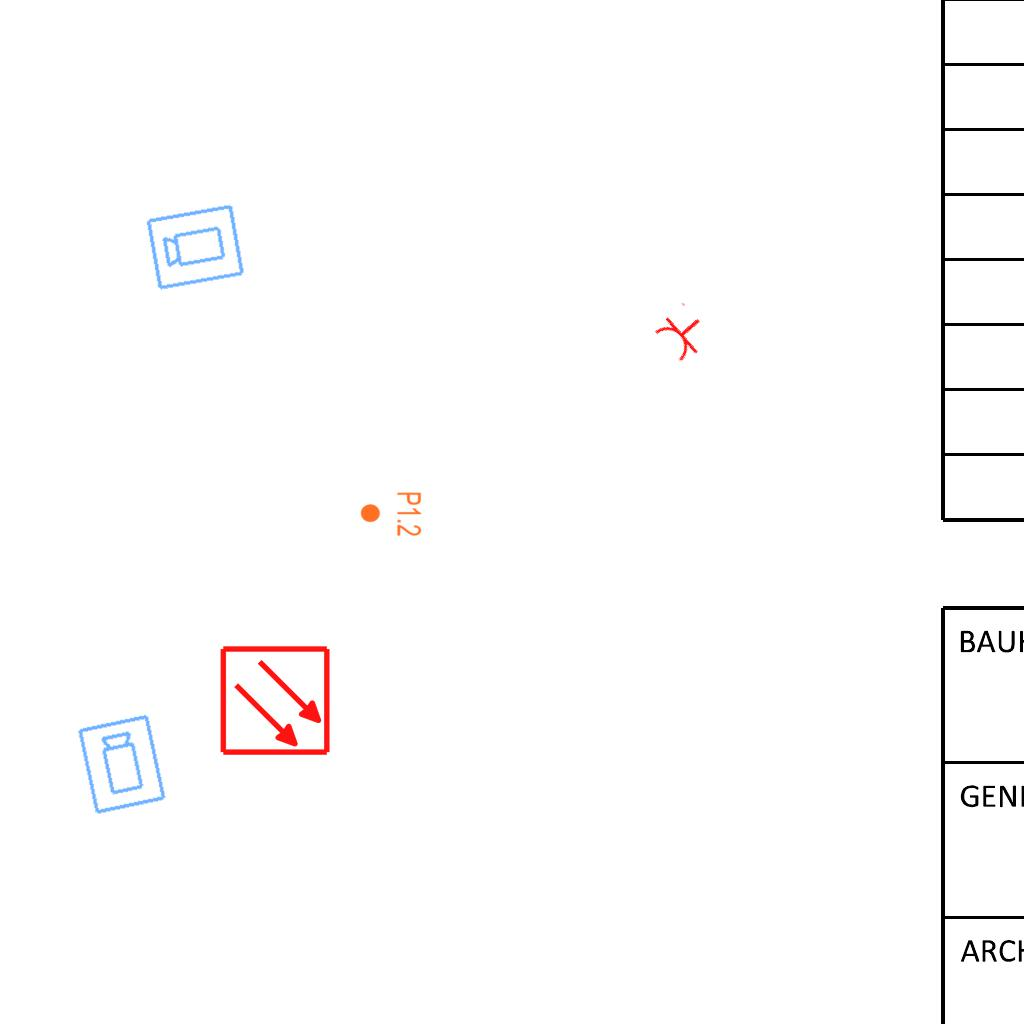Downlight_LED_Einbauleuchten_Flur: (359, 491, 423, 537)
KFO_Kamera_mit_Festobjektiv: (75, 711, 170, 818), (144, 200, 247, 293)
RMO_Rauchmelder_optischer: (219, 644, 332, 757)
Schukosteckdose_einfach: (649, 300, 716, 366)
